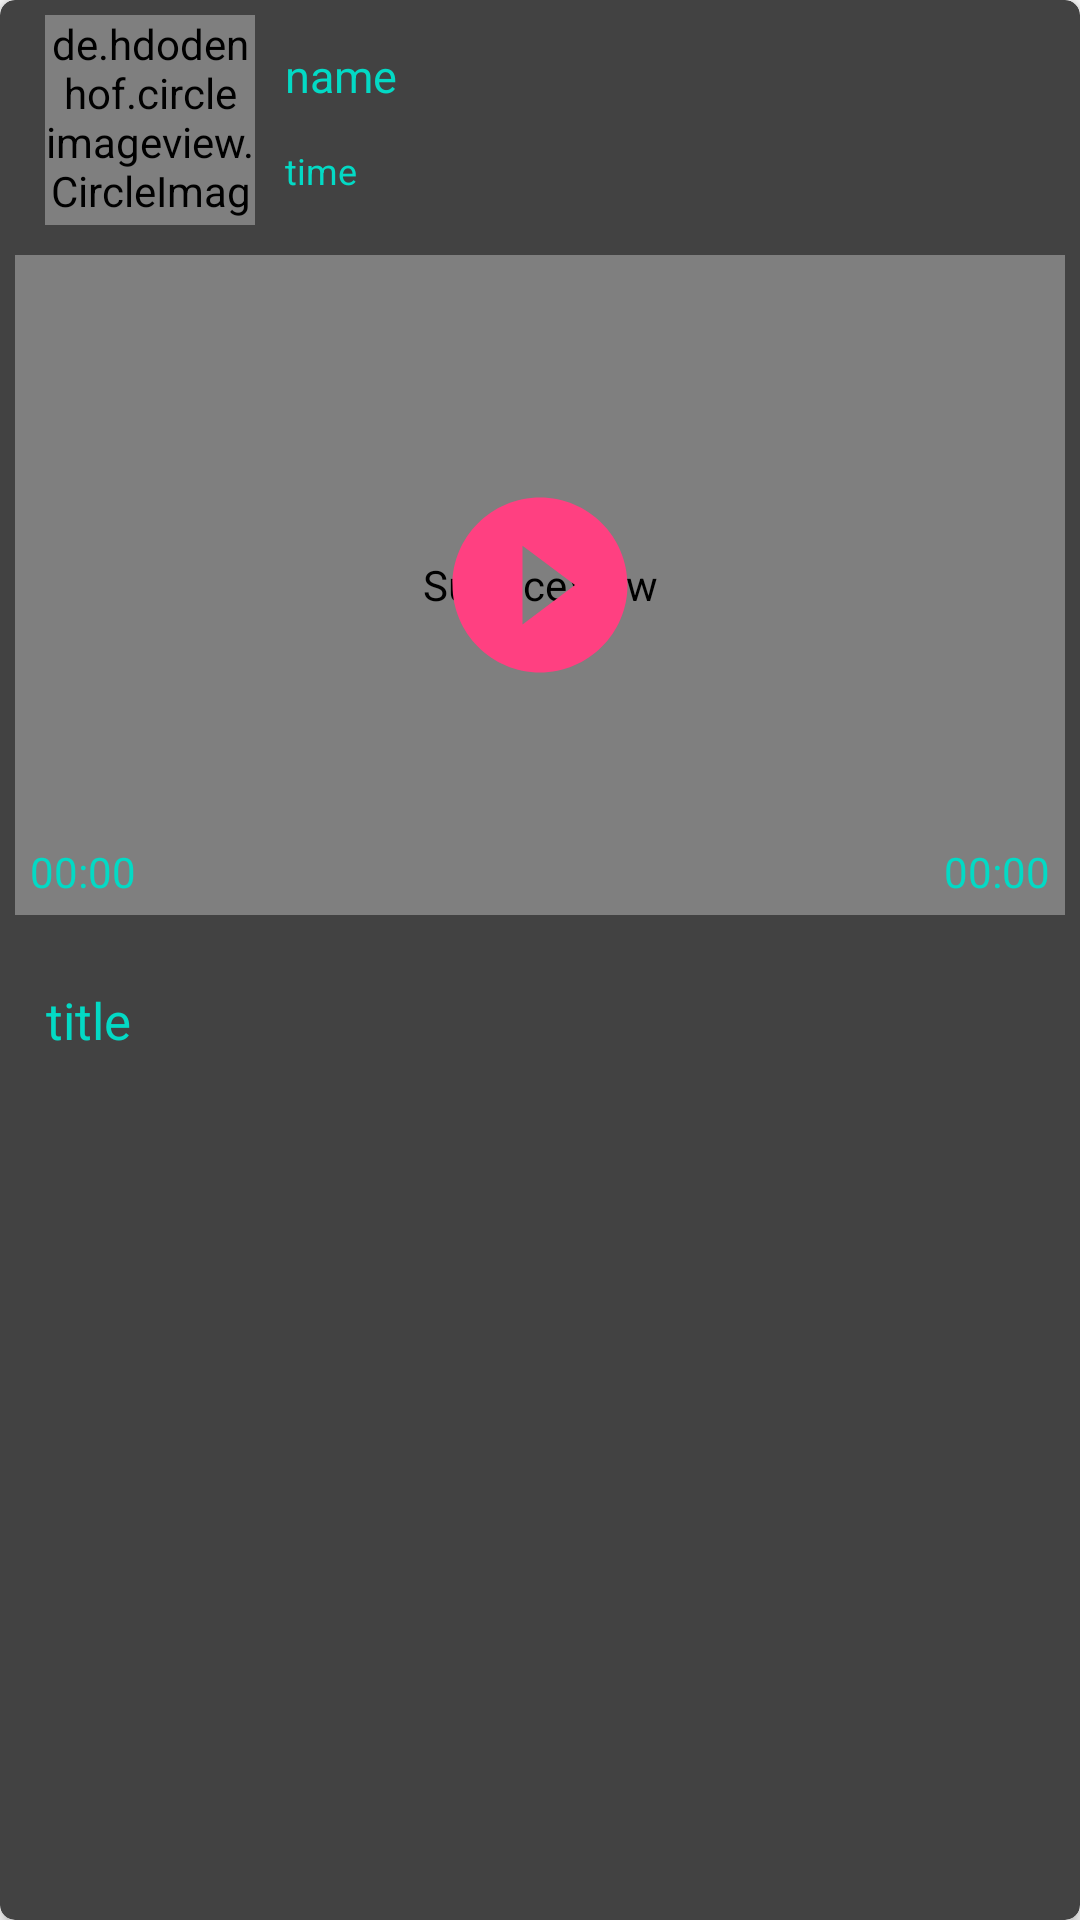

Where to tap for icons on this 1080×1920 app screen, as (x=x, y=y):
play: (x=540, y=585)
